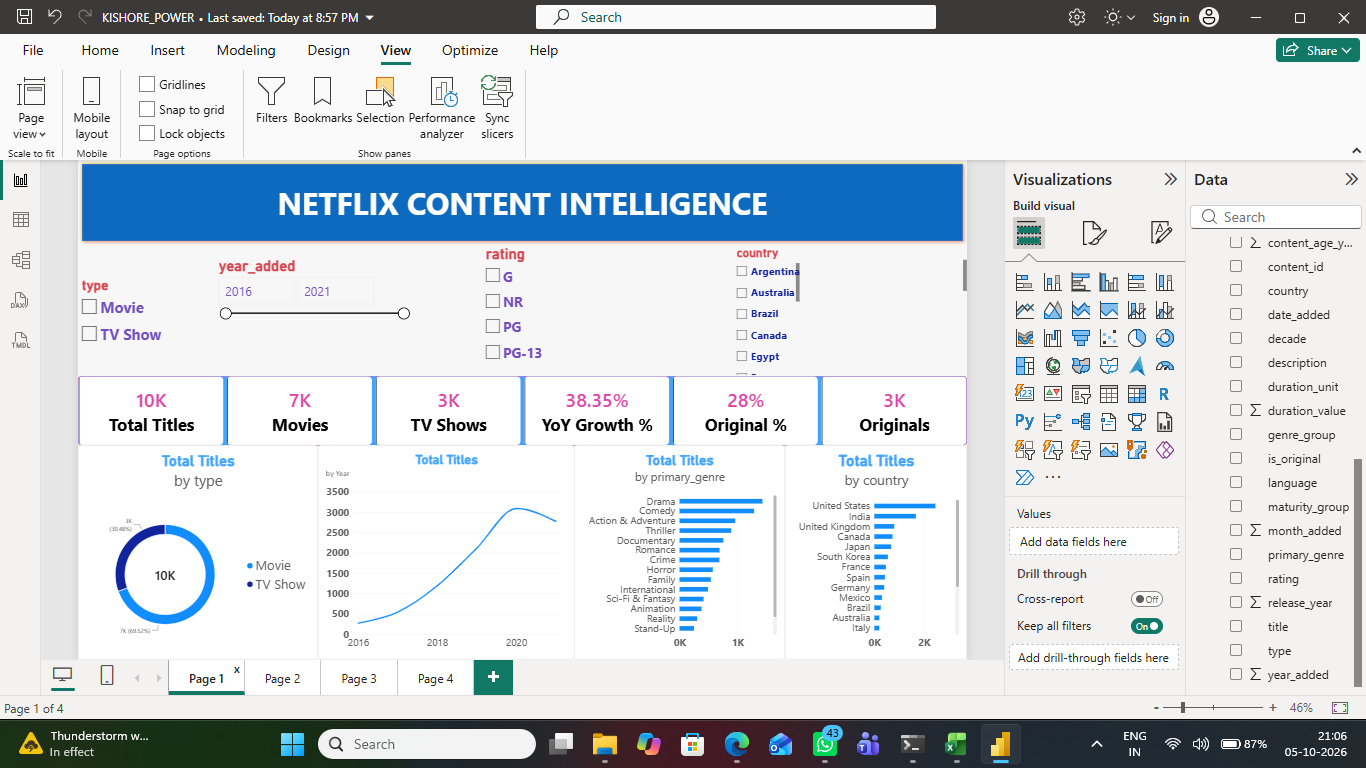

The page's visual inventory and layout, read from the dashboard file:
{"tool":"powerbi","page":{"name":"Page 1","canvas":[1920,1080],"ordinal":0},"visuals":[{"type":"slicer","fields":{"Values":["netflix_content_analytics.type"]},"box":[0,253.6,295,212.2],"z":0},{"type":"slicer","fields":{"Values":["netflix_content_analytics.year_added"]},"box":[295.9,209.5,424.4,253.6],"z":1},{"type":"slicer","fields":{"Values":["netflix_content_analytics.country"]},"box":[675.3,849.1,504.6,230.3],"z":2},{"type":"slicer","fields":{"Values":["netflix_content_analytics.rating"]},"box":[872.6,183.6,685.7,253.6],"z":3},{"type":"cardVisual","fields":{"Data":["DateTable.Total Titles","DateTable.Movies","DateTable.TV Shows","DateTable.YoY Growth %","DateTable.Original %","DateTable.Originals"]},"box":[0,462.2,1920,150.1],"z":4},{"type":"donutChart","fields":{"Category":["netflix_content_analytics.type"],"Y":["DateTable.Total Titles"]},"box":[0,615.8,517.5,463.2],"z":5},{"type":"lineChart","fields":{"Y":["DateTable.Total Titles"],"Category":["DateTable.Year"]},"box":[517.5,615.8,553.7,463.2],"z":6},{"type":"clusteredBarChart","fields":{"Category":["netflix_content_analytics.primary_genre"],"Y":["DateTable.Total Titles"]},"box":[1071.3,615.8,455.4,463.2],"z":7},{"type":"clusteredBarChart","fields":{"Category":["netflix_content_analytics.country"],"Y":["DateTable.Total Titles"]},"box":[1526.7,615.8,393.3,463.2],"z":8},{"type":"shape","title":"NETFLIX CONTENT INTELLIGENCE","box":[0,0,1920,183.7],"z":9},{"type":"slicer","fields":{"Values":["netflix_content_analytics.country"]},"box":[1414.8,183.6,505.4,252.7],"z":10}]}

Visuals, with their boxes on the page's 1920x1080 design canvas (x1, y1, x2, y2). These are canvas units, not pixel positions in the 1366x768 screenshot, which may show the page scaled, cropped or inside an application window:
slicer - netflix_content_analytics.type: (0, 254, 295, 466)
slicer - netflix_content_analytics.year_added: (296, 210, 720, 463)
slicer - netflix_content_analytics.country: (675, 849, 1180, 1079)
slicer - netflix_content_analytics.rating: (873, 184, 1558, 437)
cardVisual - DateTable.Total Titles x DateTable.Movies: (0, 462, 1920, 612)
donutChart - netflix_content_analytics.type x DateTable.Total Titles: (0, 616, 518, 1079)
lineChart - DateTable.Total Titles x DateTable.Year: (518, 616, 1071, 1079)
clusteredBarChart - netflix_content_analytics.primary_genre x DateTable.Total Titles: (1071, 616, 1527, 1079)
clusteredBarChart - netflix_content_analytics.country x DateTable.Total Titles: (1527, 616, 1920, 1079)
"NETFLIX CONTENT INTELLIGENCE" shape: (0, 0, 1920, 184)
slicer - netflix_content_analytics.country: (1415, 184, 1920, 436)
